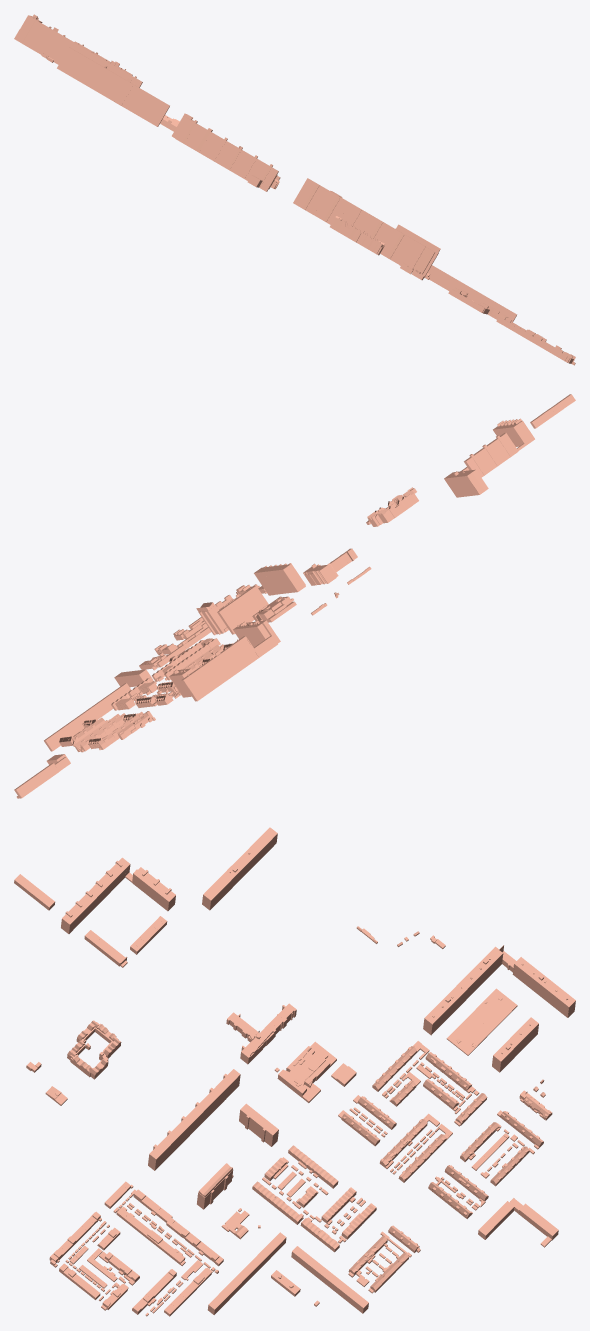
The picture shows the model from 3 angles, top to bottom: view 1: azimuth 30°, elevation 25°; view 2: azimuth 150°, elevation 25°; view 3: azimuth 270°, elevation 25°; orthographic projection. The views are drawn at different scales.
Bounding box in the file's own units: 512 × 408 × 659.
